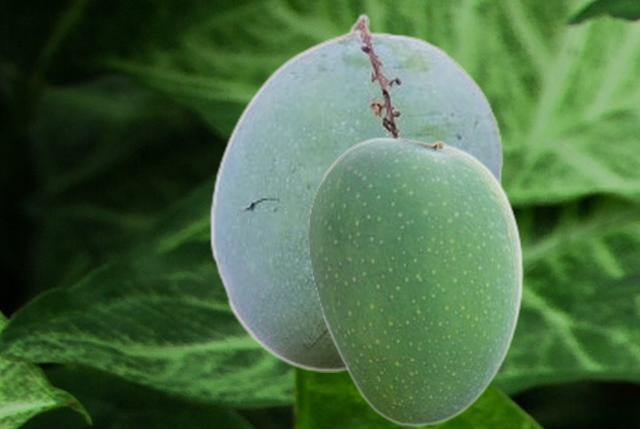green_mango: (209, 13, 503, 371), (307, 136, 523, 425)
